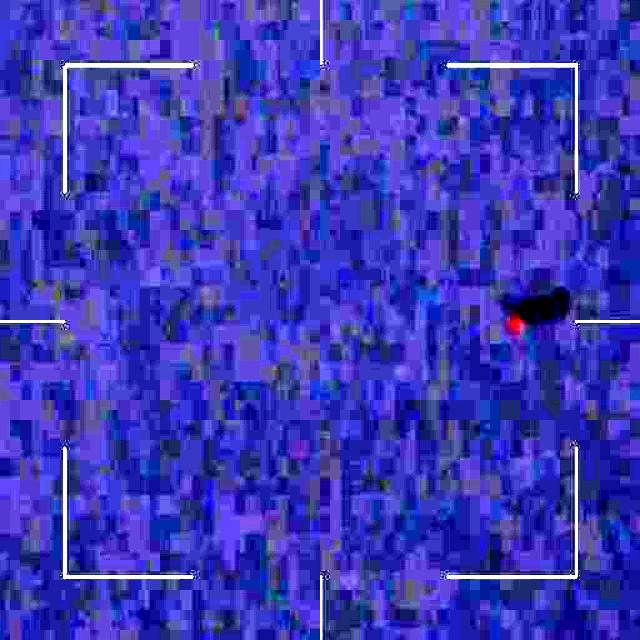bird: (495, 298, 528, 349)
